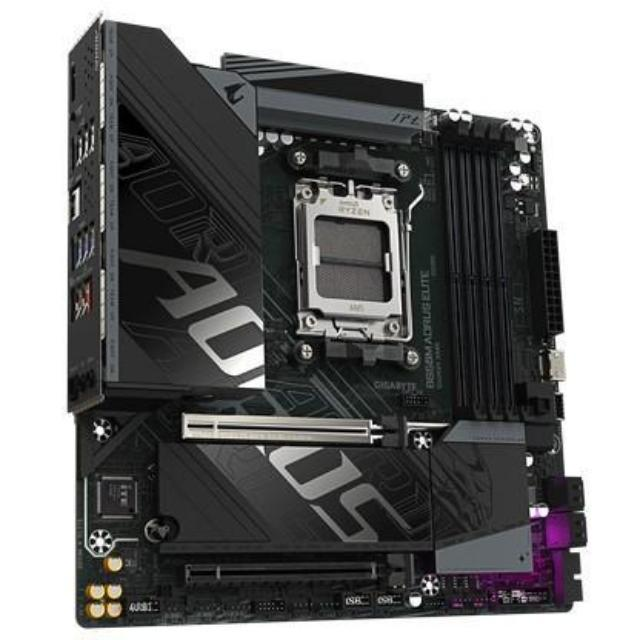Mainboard: (59, 9, 584, 638)
